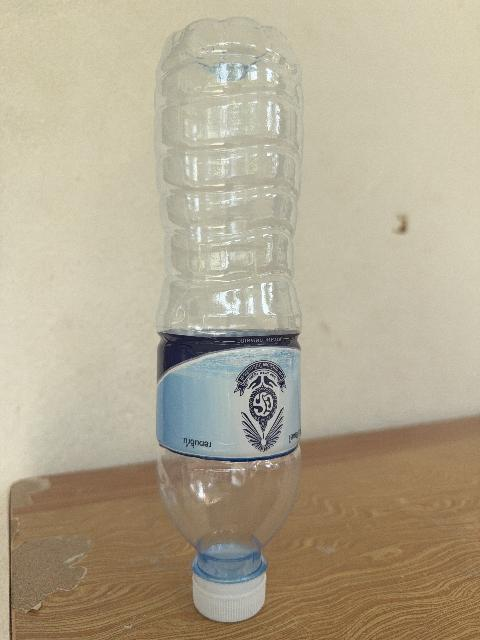bottle: (154, 18, 301, 621)
